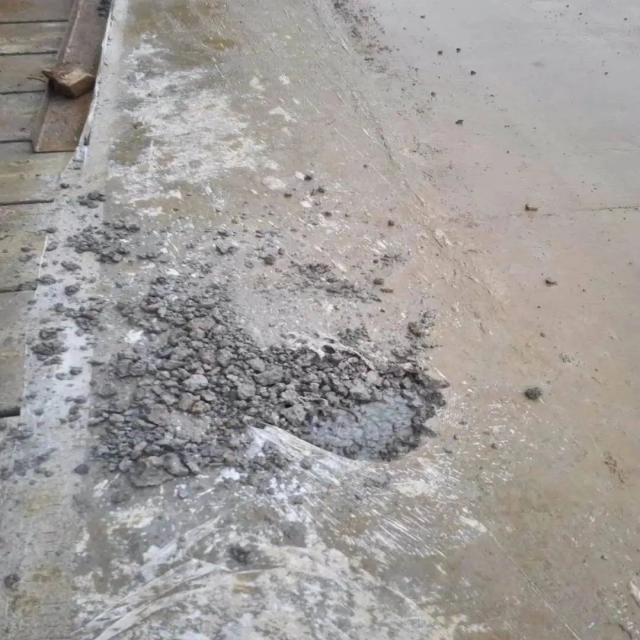Pothole: (190, 336, 461, 474)
